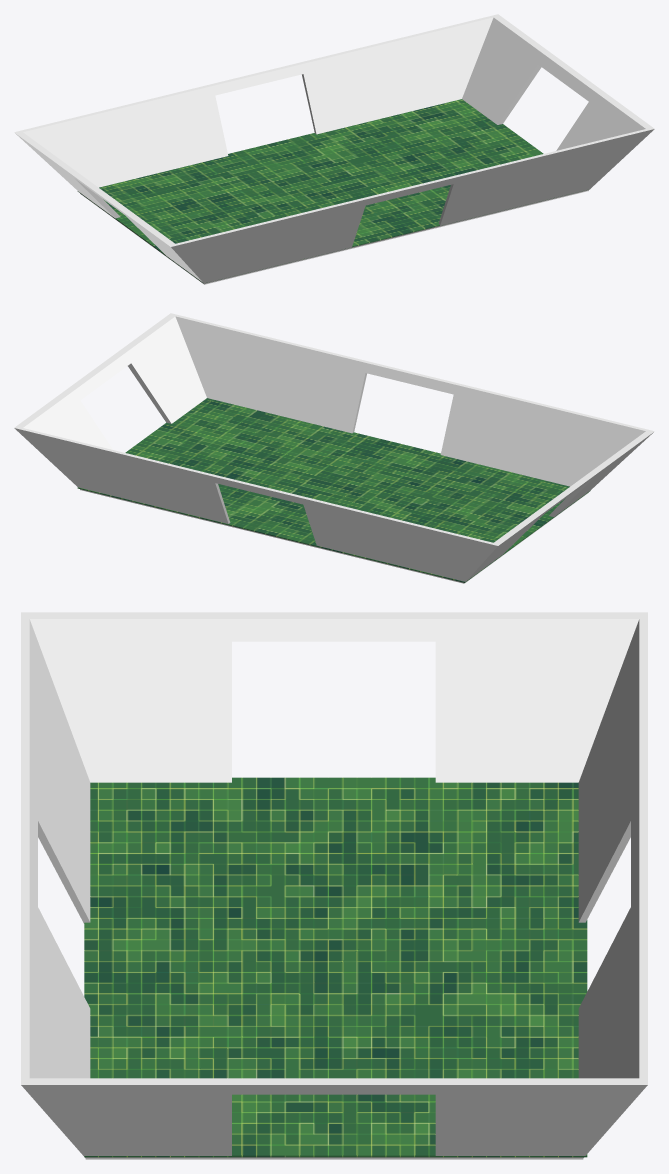
The model's file is Room2.fbx.
The picture shows the model from 3 angles, top to bottom: view 1: azimuth 30°, elevation 25°; view 2: azimuth 150°, elevation 25°; view 3: azimuth 270°, elevation 25°; orthographic projection. The views are drawn at different scales.
Parts seen in each view (by area): view 1: Room2, Piso1; view 2: Room2, Piso1; view 3: Piso1, Room2.
Boxes of the visible parts, x1,y1,x2,y2 form: Room2: [14, 14, 654, 284]; Piso1: [77, 99, 568, 283]; Room2: [14, 313, 654, 583]; Piso1: [77, 398, 590, 582]; Piso1: [84, 777, 587, 1157]; Room2: [21, 612, 647, 1159].
Size of the model in its own units: 4100 by 500 by 2300.
Materials: 3 (2 with a texture image).
